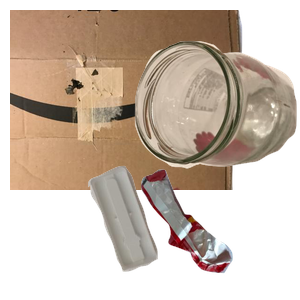cardboard: (10, 10, 245, 190)
glass: (132, 38, 300, 199)
plastic: (85, 163, 235, 300)
trash: (139, 167, 300, 300)
